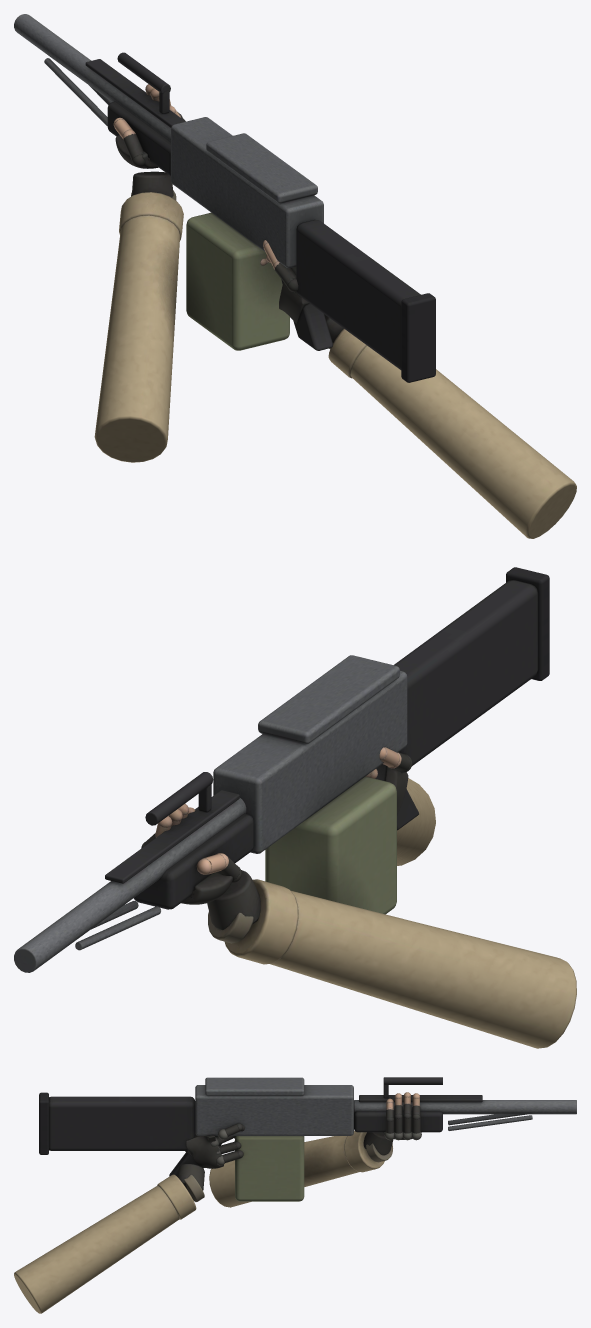
Rendered from lmg.glb.
The picture shows the model from 3 angles, top to bottom: view 1: azimuth 30°, elevation 25°; view 2: azimuth 150°, elevation 25°; view 3: azimuth 270°, elevation 25°; orthographic projection. The views are drawn at different scales.
Visible parts, largest first — view 1: lmg, hænder; view 2: lmg, hænder; view 3: lmg, hænder.
Boxes of the visible parts, x1,y1,x2,y2 form: lmg: (14,14,435,382); hænder: (94,84,576,538); lmg: (14,567,549,972); hænder: (141,747,576,1048); lmg: (39,1077,576,1201); hænder: (14,1092,421,1313).
Size of the model in its own units: 0.5162 by 0.4365 by 1.14.
2 materials, 2 textured.
